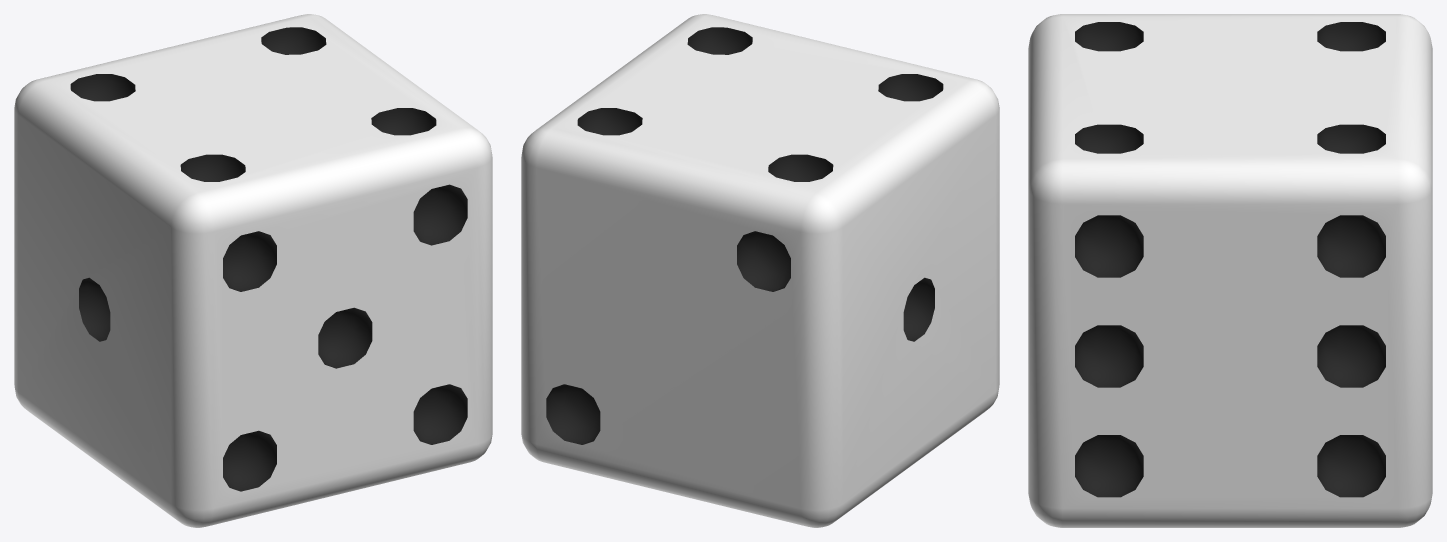
The model's file is dice_white.fbx.
The picture shows the model from 3 angles, left to right: view 1: azimuth 30°, elevation 25°; view 2: azimuth 150°, elevation 25°; view 3: azimuth 270°, elevation 25°; orthographic projection. The views are drawn at different scales.
Visible parts, largest first — view 1: dice_white; view 2: dice_white; view 3: dice_white.
Boxes of the visible parts, x1,y1,x2,y2 form: dice_white: [14, 14, 492, 527]; dice_white: [521, 14, 999, 527]; dice_white: [1028, 14, 1432, 527].
Size of the model in its own units: 5 by 5 by 5.
Materials: 1 (1 with a texture image).
